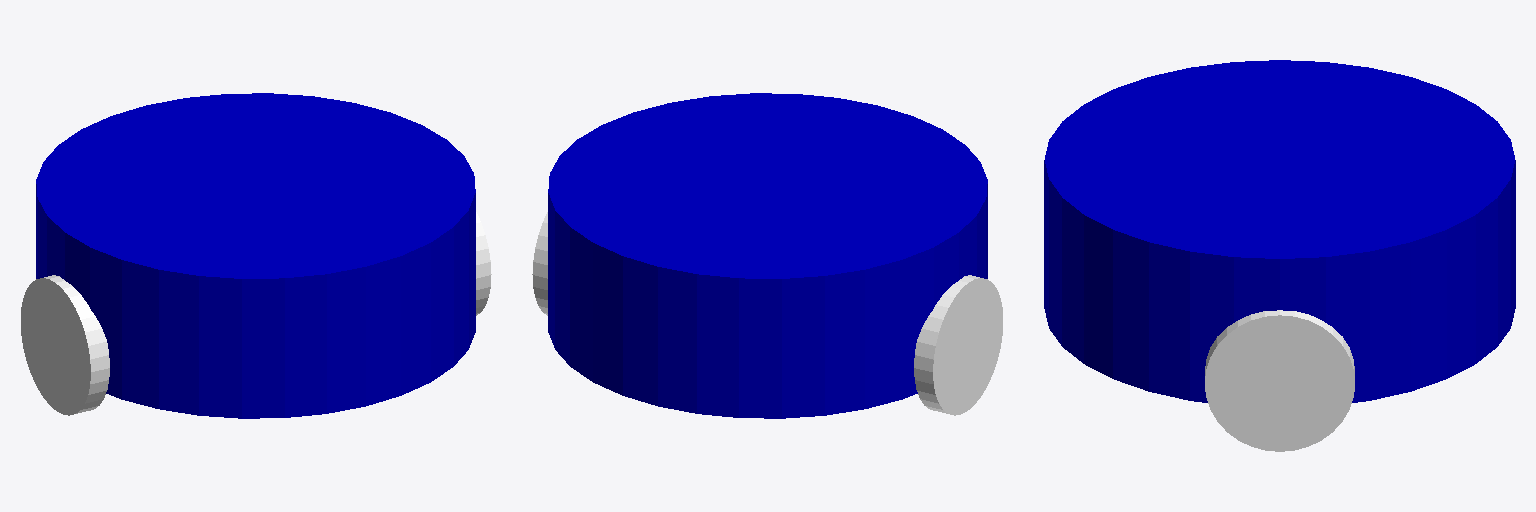
The robot description file, URDF, robot "MyRobot":
<?xml version="1.0"?>
<robot name="MyRobot">

<link name="base_link">
   <visual>
    <geometry>
     <cylinder length="0.035" radius="0.05"/>
    </geometry>
      <material name="blue"> 
        <color rgba="0 0 0.8 1"/>
    </material>
   </visual>

 </link>

 <link name="right_wheel"> 
    <visual> 
      <geometry> 
        <cylinder length="0.005" radius="0.016"/> 
      </geometry> 
      <material name="white">
        <color rgba="1 1 1 1"/>
      </material> 
    </visual> 


  </link>
<joint name="right_wheel_joint" type="continuous"> 
    <axis xyz="0 0 1"/> 
    <parent link="base_link"/> 
    <child link="right_wheel"/> 
    <origin rpy="0 -1.5708 0" xyz="0.05 0 -0.0105"/> 
  </joint>

   <link name="left_wheel"> 
    <visual> 
      <geometry> 
        <cylinder length="0.005" radius="0.016"/> 
      </geometry> 
      <material name="white">
        <color rgba="1 1 1 1"/>
      </material> 
    </visual> 

  </link>

    <joint name="left_wheel_joint" type="continuous"> 
    <axis xyz="0 0 1"/> 
    <parent link="base_link"/> 
    <child link="left_wheel"/> 
    <origin rpy="0 -1.5708 0" xyz="-0.05 0 -0.0105"/> 
  </joint>


</robot>

--- Render facts (derived) ---
The picture shows the robot from 3 angles, left to right: view 1: azimuth 30°, elevation 25°; view 2: azimuth 150°, elevation 25°; view 3: azimuth 270°, elevation 25°; orthographic projection.
Model MyRobot with 3 links and 2 joints (2 continuous), rooted at base_link, posed every joint at zero.
Visible links, largest first — view 1: base_link, left_wheel, right_wheel; view 2: base_link, left_wheel, right_wheel; view 3: base_link, right_wheel.
Boxes of the visible links, x1=… form: base_link: x1=36, y1=93, x2=475, y2=418; left_wheel: x1=21, y1=275, x2=109, y2=415; right_wheel: x1=476, y1=212, x2=491, y2=315; base_link: x1=548, y1=93, x2=987, y2=418; left_wheel: x1=914, y1=275, x2=1002, y2=415; right_wheel: x1=532, y1=212, x2=547, y2=315; base_link: x1=1044, y1=60, x2=1515, y2=402; right_wheel: x1=1205, y1=310, x2=1354, y2=451.
Bounding box of the posed robot: 0.105 × 0.1 × 0.044 m (x, y, z).
Geometry: primitives only (box / cylinder / sphere), no mesh files.